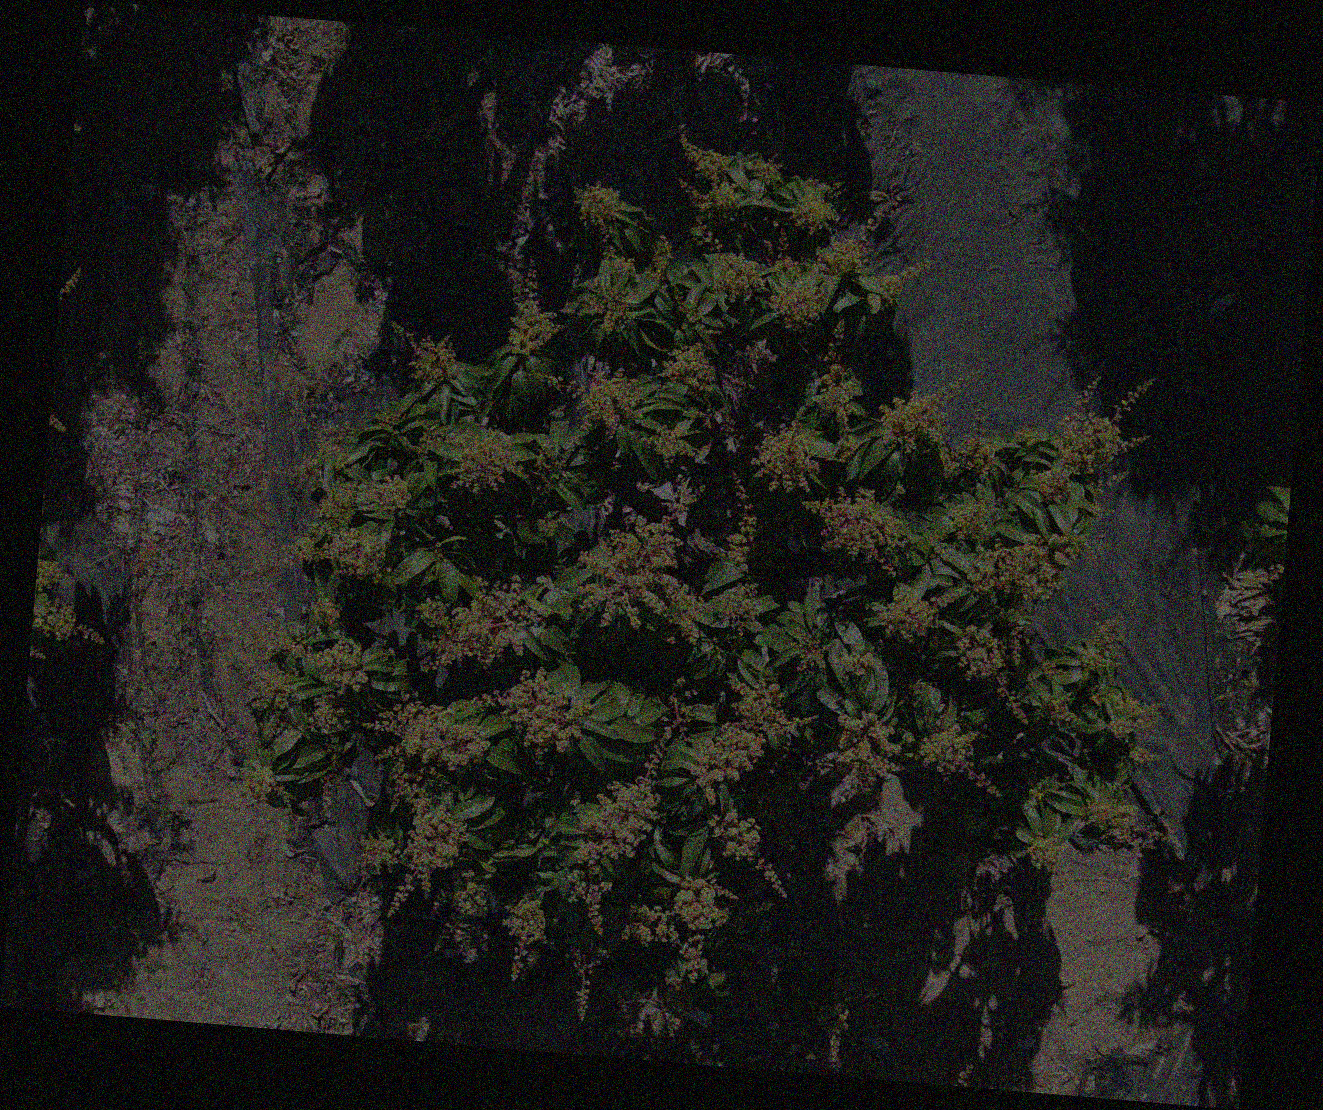flowers: (579, 519, 762, 641), (582, 690, 687, 873), (1041, 376, 1147, 507), (573, 774, 656, 936), (697, 681, 803, 805), (415, 574, 544, 674), (360, 796, 464, 917), (296, 471, 409, 580), (623, 875, 732, 981), (484, 668, 591, 758), (969, 532, 1089, 603), (374, 701, 491, 774), (881, 366, 977, 453), (803, 488, 904, 565), (825, 176, 901, 277), (706, 810, 791, 893), (954, 627, 1030, 718), (549, 366, 638, 438), (423, 426, 514, 493), (267, 632, 370, 692), (918, 725, 1004, 792), (678, 138, 742, 224), (511, 260, 564, 356), (837, 712, 900, 792), (755, 422, 821, 492), (816, 322, 855, 435), (438, 870, 486, 962), (502, 895, 548, 982), (945, 400, 998, 476), (1083, 799, 1168, 847), (389, 324, 457, 382), (881, 587, 945, 642), (1083, 598, 1131, 672), (34, 596, 107, 641), (814, 973, 849, 1069), (566, 949, 602, 1021), (665, 342, 717, 392), (570, 872, 611, 934), (717, 254, 765, 302), (770, 286, 821, 331), (575, 182, 619, 233), (1108, 699, 1161, 741), (882, 258, 932, 301), (584, 289, 630, 334), (792, 192, 839, 235), (649, 422, 696, 463), (665, 676, 692, 743), (820, 238, 866, 277), (728, 511, 757, 573), (251, 671, 292, 711), (311, 696, 351, 734), (949, 501, 987, 541), (1026, 835, 1064, 873), (37, 558, 74, 594), (942, 848, 974, 884), (796, 633, 825, 672), (244, 766, 278, 799), (1036, 700, 1079, 726), (534, 447, 567, 479), (1028, 773, 1062, 804), (322, 755, 341, 810), (652, 235, 673, 280), (839, 652, 874, 677), (311, 599, 341, 627), (61, 266, 81, 303), (755, 157, 783, 185), (373, 407, 403, 433), (960, 809, 985, 837), (689, 1040, 718, 1064), (679, 300, 704, 324), (407, 1016, 431, 1041), (538, 510, 560, 536), (1129, 747, 1160, 765), (956, 1062, 974, 1086), (963, 708, 987, 726), (50, 414, 67, 432), (1041, 659, 1060, 675), (30, 647, 45, 659)
